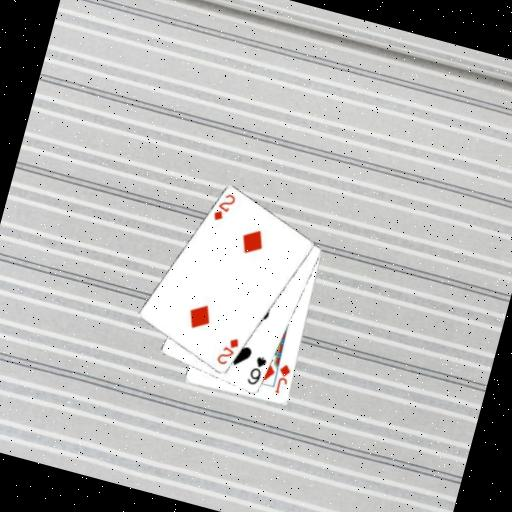2D: (212, 331, 242, 369), (208, 188, 238, 226)
6S: (242, 351, 269, 389)
JD: (271, 360, 294, 397)
